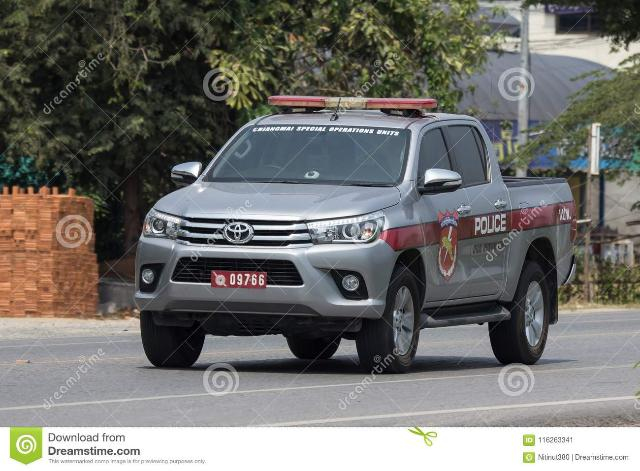pickup-truck: (136, 113, 575, 371)
